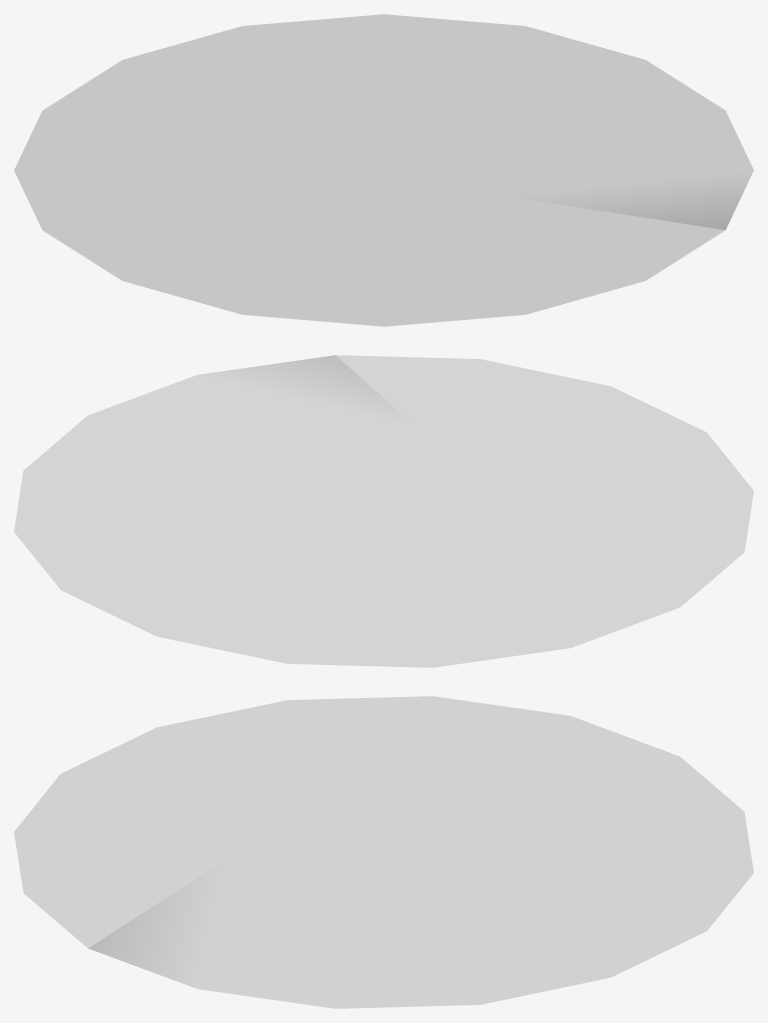
The picture shows the model from 3 angles, top to bottom: view 1: azimuth 30°, elevation 25°; view 2: azimuth 150°, elevation 25°; view 3: azimuth 270°, elevation 25°; orthographic projection.
Visible parts, largest first — view 1: Joint_0_Object_0; view 2: Joint_0_Object_0; view 3: Joint_0_Object_0.
Part boxes in pixels (box(x1,y1,x2,y2)): Joint_0_Object_0: box(14, 14, 753, 326); Joint_0_Object_0: box(14, 355, 753, 667); Joint_0_Object_0: box(14, 696, 753, 1008).
Size of the model in its own units: 247 by 6.92 by 247.
1 material, 1 textured.
